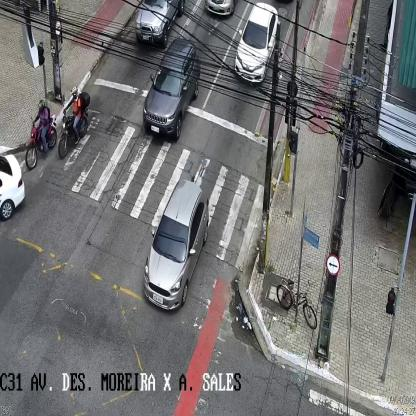bicycle: (275, 276, 318, 331)
car: (142, 179, 208, 313), (143, 38, 201, 142), (234, 2, 280, 83), (136, 1, 186, 45)
motorbike: (57, 87, 91, 158), (25, 100, 56, 170)
